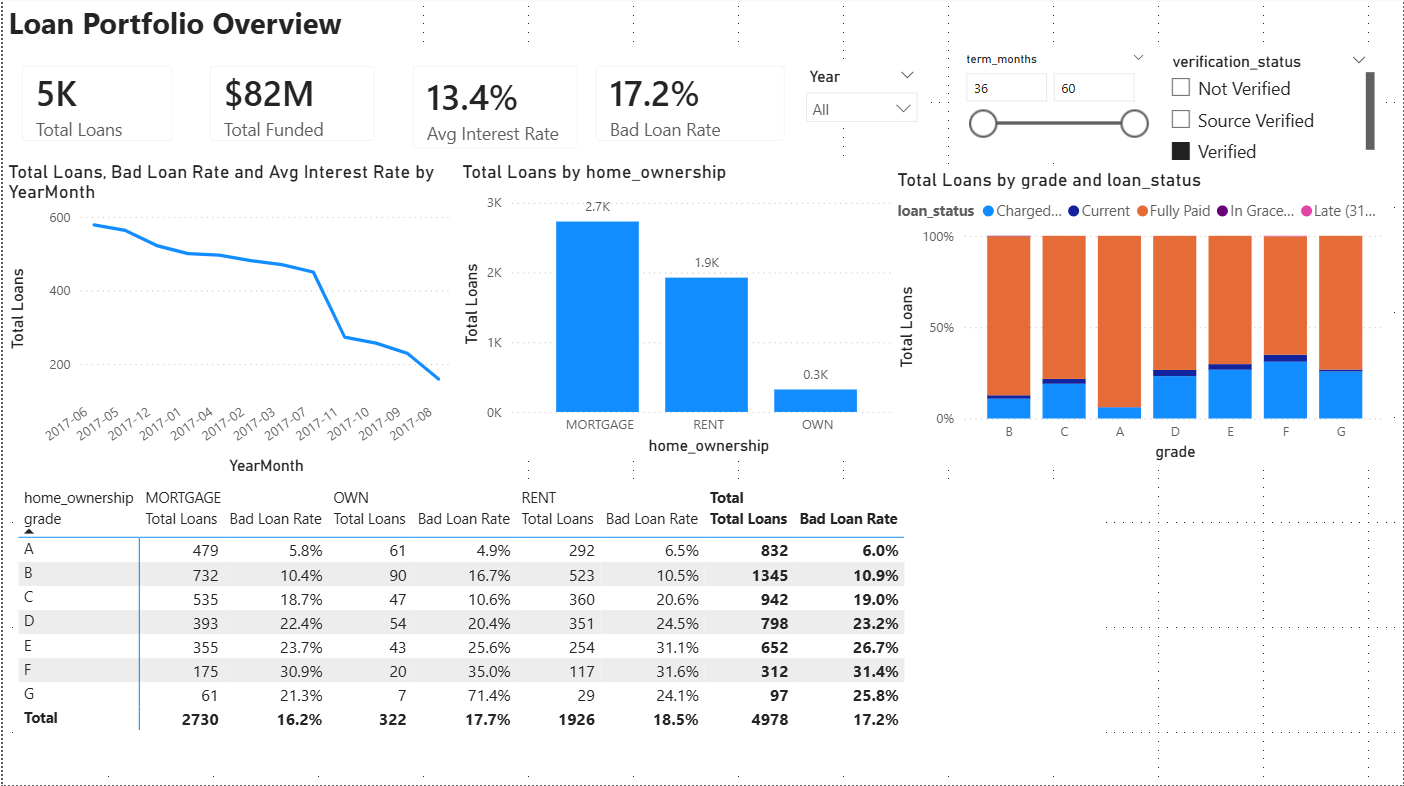

The page's visual inventory and layout, read from the dashboard file:
{"tool":"powerbi","page":{"name":"Page 1","canvas":[1280,720],"ordinal":0},"visuals":[{"type":"cardVisual","fields":{"Data":["DateTable.Total Loans"]},"box":[0,45.5,172.2,103.9],"z":0},{"type":"cardVisual","fields":{"Data":["DateTable.Total Funded"]},"box":[172.2,45.5,185.1,103.9],"z":1000},{"type":"cardVisual","fields":{"Data":["DateTable.Avg Interest Rate"]},"box":[357.3,45.5,185.1,110.8],"z":2000},{"type":"cardVisual","fields":{"Data":["DateTable.Bad Loan Rate"]},"box":[524.5,45.5,207.8,103.9],"z":3000},{"type":"lineChart","fields":{"Category":["DateTable.YearMonth"],"Y":["DateTable.Total Loans"]},"box":[0,149.4,414.7,292.9],"z":4000},{"type":"clusteredColumnChart","fields":{"Category":["Loans.home_ownership"],"Y":["DateTable.Total Loans"]},"box":[414.7,149.4,414.7,274.1],"z":5000},{"type":"hundredPercentStackedColumnChart","fields":{"Category":["Loans.grade"],"Series":["Loans.loan_status"],"Y":["DateTable.Total Loans"]},"box":[812.5,156.4,456.2,273.2],"z":6000},{"type":"pivotTable","fields":{"Rows":["Loans.grade"],"Columns":["Loans.home_ownership"],"Values":["DateTable.Total Loans","DateTable.Bad Loan Rate"]},"box":[8.9,442.4,994.6,267.2],"z":7000},{"type":"slicer","fields":{"Values":["DateTable.Year"]},"box":[724.5,59.4,121.7,60.4],"z":8000},{"type":"slicer","fields":{"Values":["Loans.term_months"]},"box":[868,45.5,188,100],"z":9000},{"type":"slicer","fields":{"Values":["Loans.verification_status"]},"box":[1056,45.5,202.9,110.8],"z":10000},{"type":"textbox","box":[0,0,314.7,50.5],"z":10001}]}

Visuals, with their boxes in screenshot pixels (x1, y1, x2, y2), scaled from the page's 1280x720 canvas onto the 1404x786 screenshot:
cardVisual - DateTable.Total Loans: l=0, t=50, r=189, b=163
cardVisual - DateTable.Total Funded: l=189, t=50, r=392, b=163
cardVisual - DateTable.Avg Interest Rate: l=392, t=50, r=595, b=171
cardVisual - DateTable.Bad Loan Rate: l=575, t=50, r=803, b=163
lineChart - DateTable.YearMonth x DateTable.Total Loans: l=0, t=163, r=455, b=483
clusteredColumnChart - Loans.home_ownership x DateTable.Total Loans: l=455, t=163, r=910, b=462
hundredPercentStackedColumnChart - Loans.grade x Loans.loan_status: l=891, t=171, r=1392, b=469
pivotTable - Loans.grade x Loans.home_ownership: l=10, t=483, r=1101, b=775
slicer - DateTable.Year: l=795, t=65, r=928, b=131
slicer - Loans.term_months: l=952, t=50, r=1158, b=159
slicer - Loans.verification_status: l=1158, t=50, r=1381, b=171
textbox: l=0, t=0, r=345, b=55
